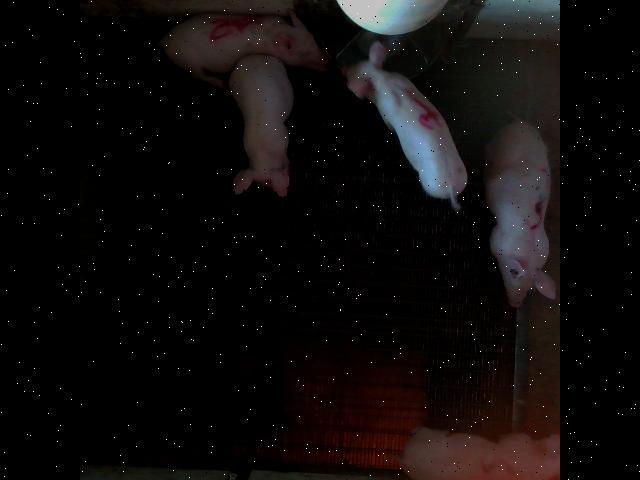pig-2: (400, 426, 558, 480)
pig-3: (485, 116, 555, 306)
pig-4: (342, 41, 467, 211)
pig-5: (155, 11, 329, 89)
